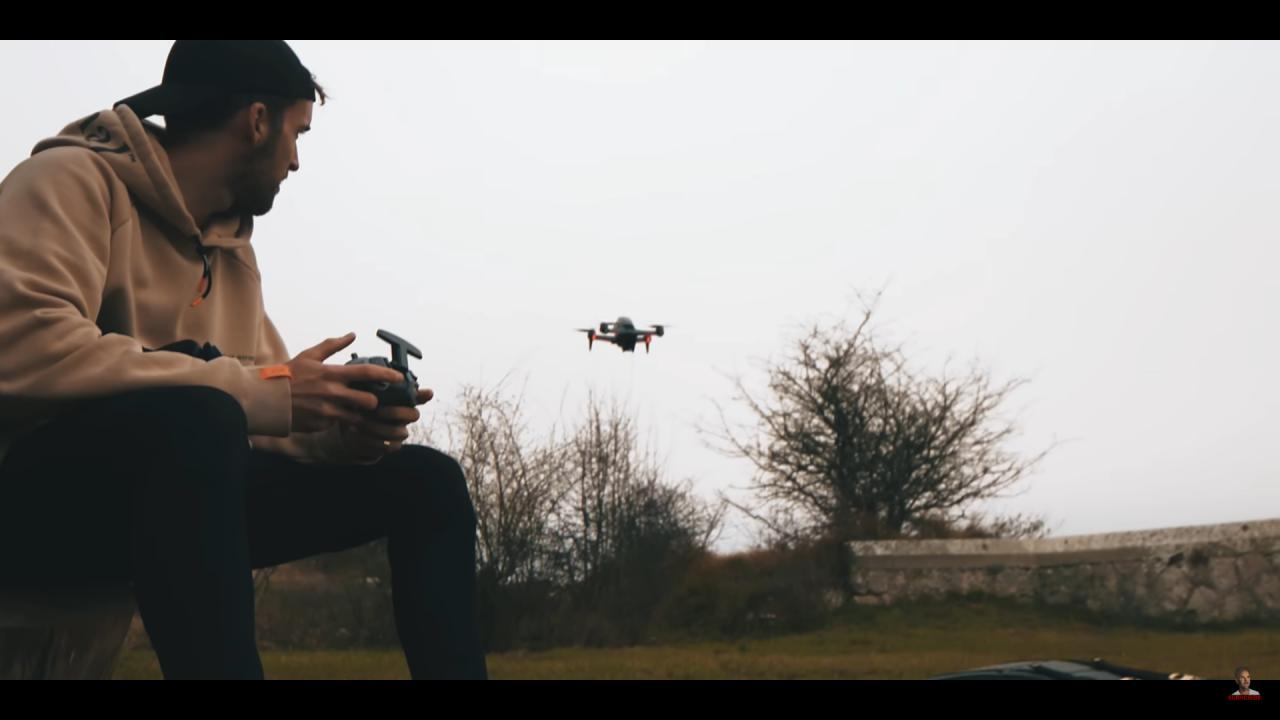Drone: (570, 308, 677, 363)
